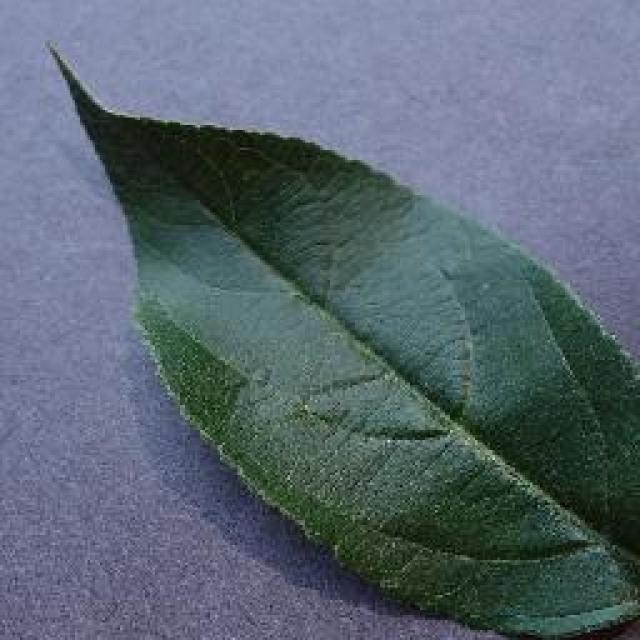apple healthy: (42, 35, 638, 637)
